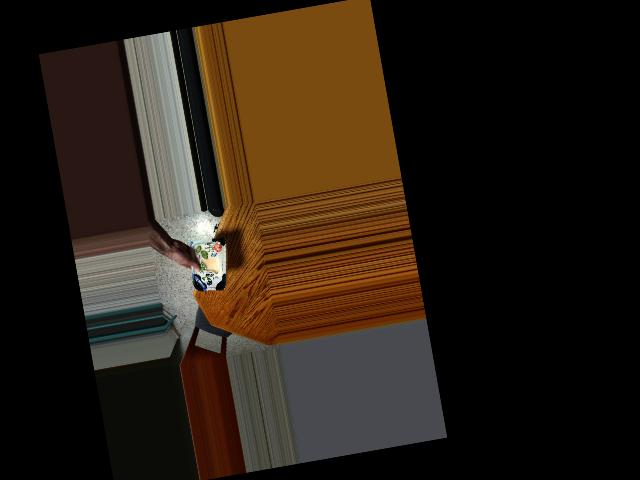cheese: (179, 235, 234, 294)
